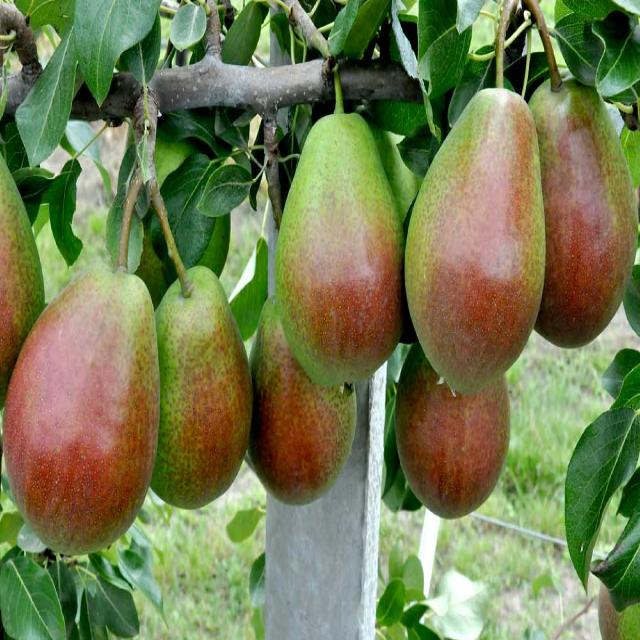paer: (0, 221, 160, 551), (384, 102, 545, 384), (510, 70, 638, 373), (261, 115, 397, 386), (372, 323, 521, 542), (243, 304, 346, 562), (151, 230, 246, 505)
